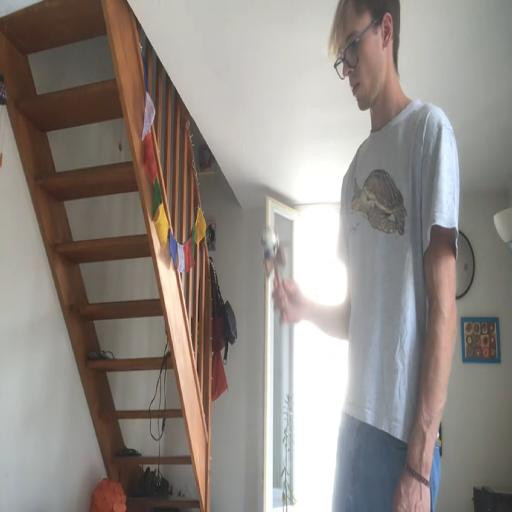kendama_ball: (262, 228, 279, 259)
